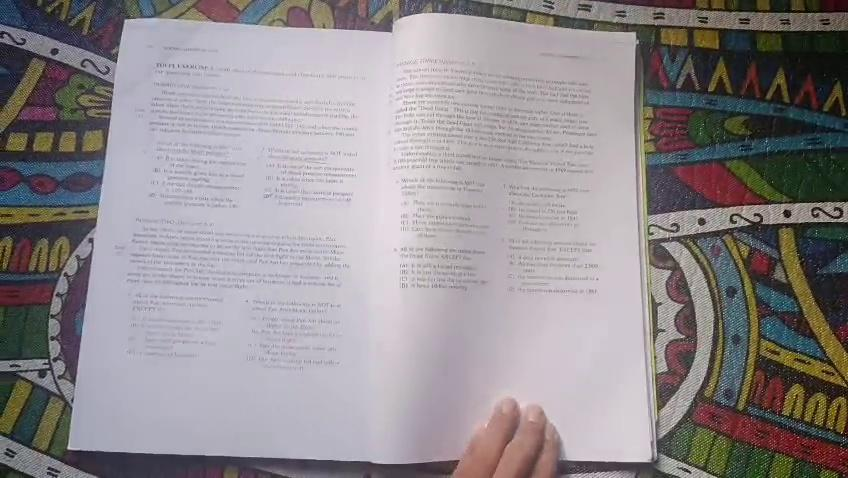Kertas: (75, 14, 395, 460), (389, 9, 646, 468)
